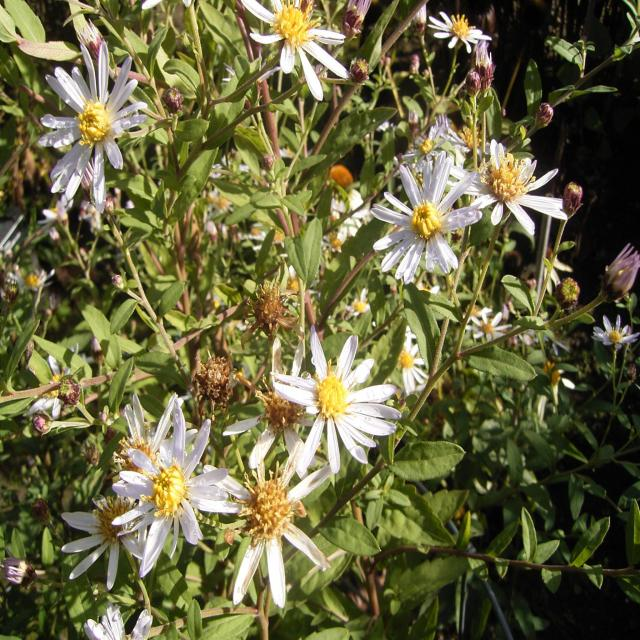organic waste: (95, 390, 239, 586), (215, 432, 341, 617), (258, 329, 407, 477), (32, 43, 160, 206), (362, 140, 492, 286), (245, 5, 355, 110), (412, 7, 496, 69), (588, 304, 640, 368), (468, 304, 514, 352)
